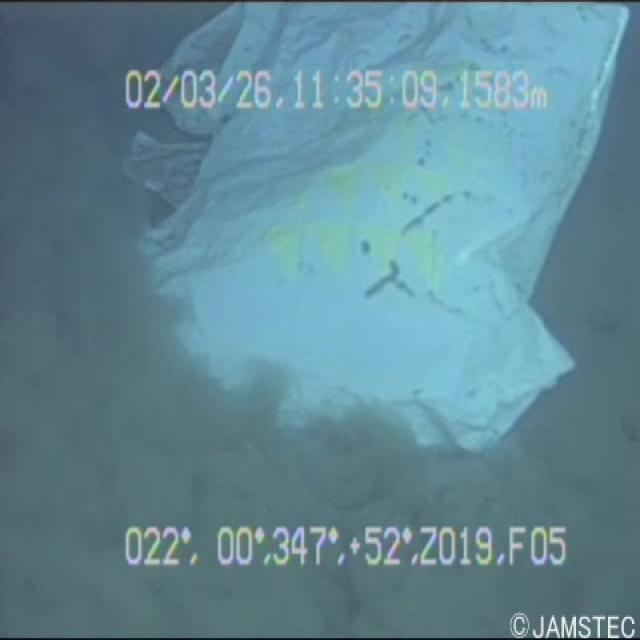plastic: (103, 9, 637, 491)
